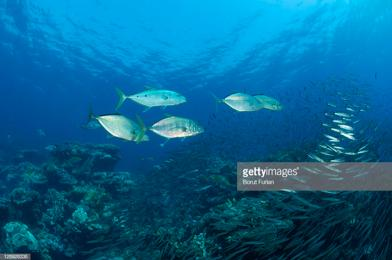Carangidae -Jacks-: (83, 101, 151, 147), (107, 78, 188, 112), (128, 109, 207, 139), (206, 84, 264, 117)
